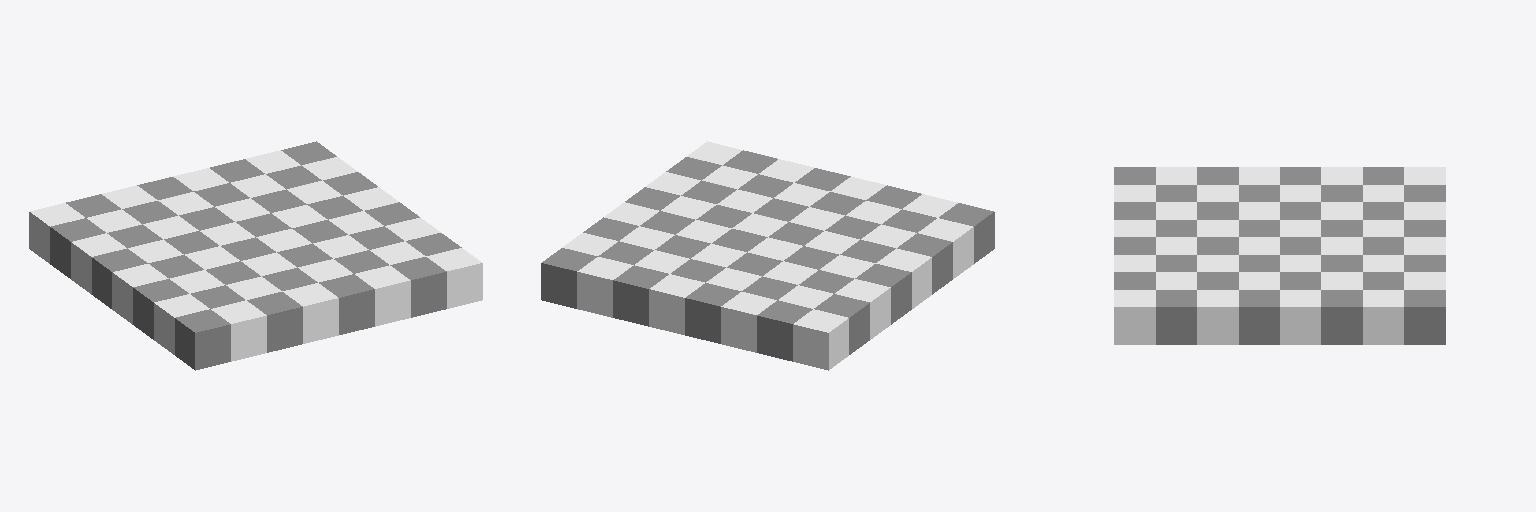
3 renders of one model, left to right at view 1: azimuth 30°, elevation 25°; view 2: azimuth 150°, elevation 25°; view 3: azimuth 270°, elevation 25°, orthographic.
Parts seen in each view (by area): view 1: group[number redacted], group[number redacted], group[number redacted], group[number redacted], group[number redacted], group[number redacted], group[number redacted], group[number redacted], group[number redacted], group[number redacted], group[number redacted], group[number redacted] (+28 smaller); view 2: group[number redacted], group[number redacted], group[number redacted], group[number redacted], group[number redacted], group[number redacted], group[number redacted], group[number redacted], group[number redacted], group[number redacted], group[number redacted], group[number redacted] (+28 smaller); view 3: group[number redacted], group[number redacted], group[number redacted], group[number redacted], group[number redacted], group[number redacted], group[number redacted], group[number redacted], group[number redacted], group[number redacted], group[number redacted], group[number redacted] (+28 smaller).
Boxes of the visible parts, x1,y1,x2,y2 form: group[number redacted]: [175, 309, 230, 370]; group[number redacted]: [211, 300, 266, 361]; group[number redacted]: [426, 248, 482, 308]; group[number redacted]: [355, 265, 410, 326]; group[number redacted]: [282, 283, 338, 343]; group[number redacted]: [247, 292, 302, 352]; group[number redacted]: [319, 274, 374, 334]; group[number redacted]: [390, 257, 446, 317]; group[number redacted]: [50, 218, 105, 278]; group[number redacted]: [154, 294, 209, 354]; group[number redacted]: [133, 279, 188, 339]; group[number redacted]: [29, 203, 84, 263]; group[number redacted]: [793, 309, 848, 370]; group[number redacted]: [757, 300, 812, 361]; group[number redacted]: [541, 248, 597, 308]; group[number redacted]: [685, 283, 741, 343]; group[number redacted]: [613, 265, 668, 326]; group[number redacted]: [721, 292, 776, 352]; group[number redacted]: [649, 274, 704, 334]; group[number redacted]: [577, 257, 633, 317]; group[number redacted]: [918, 218, 973, 278]; group[number redacted]: [835, 279, 890, 339]; group[number redacted]: [814, 294, 869, 354]; group[number redacted]: [855, 264, 911, 324]; group[number redacted]: [1114, 290, 1155, 344]; group[number redacted]: [1197, 290, 1238, 344]; group[number redacted]: [1404, 290, 1445, 344]; group[number redacted]: [1321, 290, 1362, 344]; group[number redacted]: [1363, 290, 1403, 344]; group[number redacted]: [1280, 290, 1320, 344]; group[number redacted]: [1239, 290, 1279, 344]; group[number redacted]: [1156, 290, 1196, 344]; group[number redacted]: [1321, 202, 1362, 219]; group[number redacted]: [1404, 167, 1445, 184]; group[number redacted]: [1404, 202, 1445, 219]; group[number redacted]: [1404, 237, 1445, 254].
Bounding box in the file's own units: 0.32 × 0.04 × 0.32.